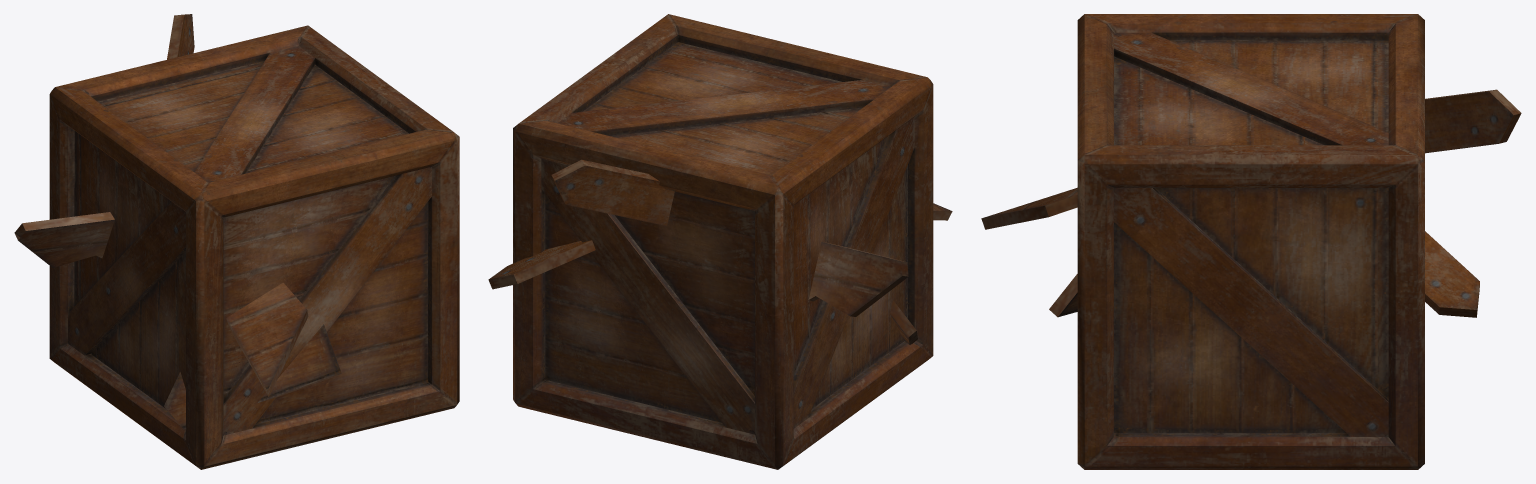
File: WoodenCrate.fbx
3 renders of one model, left to right at view 1: azimuth 30°, elevation 25°; view 2: azimuth 150°, elevation 25°; view 3: azimuth 270°, elevation 25°, orthographic. The views are drawn at different scales.
Visible parts, largest first — view 1: crate_1, piece_1, piece_4, piece_2_2, piece_3; view 2: crate_1, piece_3, piece_4, piece, piece_2_2; view 3: crate_1, piece_3, piece, piece_1, piece_2_2.
Boxes of the visible parts, left/top/right/bottom form: crate_1: left=49, top=25, right=459, bottom=469; piece_1: left=226, top=282, right=308, bottom=396; piece_4: left=14, top=212, right=114, bottom=267; piece_2_2: left=164, top=324, right=341, bottom=430; piece_3: left=167, top=14, right=194, bottom=59; crate_1: left=513, top=14, right=933, bottom=469; piece_3: left=551, top=159, right=674, bottom=225; piece_4: left=808, top=242, right=908, bottom=316; piece: left=488, top=240, right=595, bottom=289; piece_2_2: left=890, top=300, right=917, bottom=344; crate_1: left=1077, top=14, right=1424, bottom=469; piece_3: left=1425, top=89, right=1521, bottom=153; piece: left=1425, top=231, right=1479, bottom=317; piece_1: left=981, top=187, right=1077, bottom=229; piece_2_2: left=1049, top=274, right=1077, bottom=317.
Size of the model in its own units: 186 by 149 by 224.
